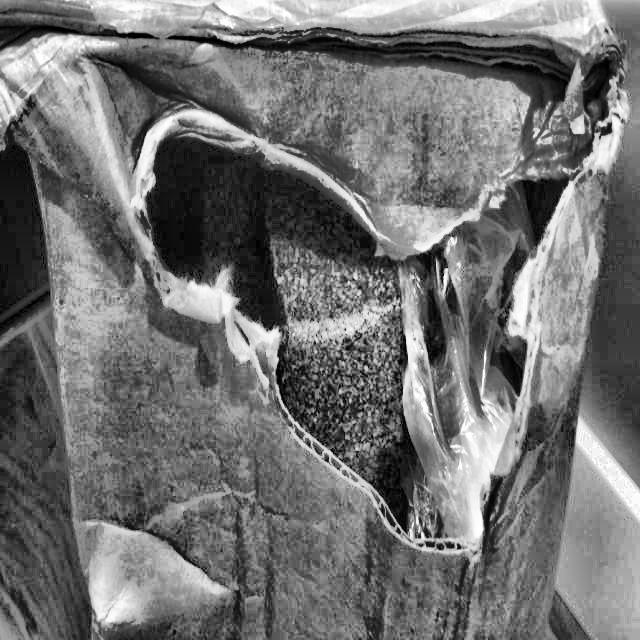box: (0, 0, 639, 639), (0, 0, 637, 639)
hole: (140, 97, 598, 577)
